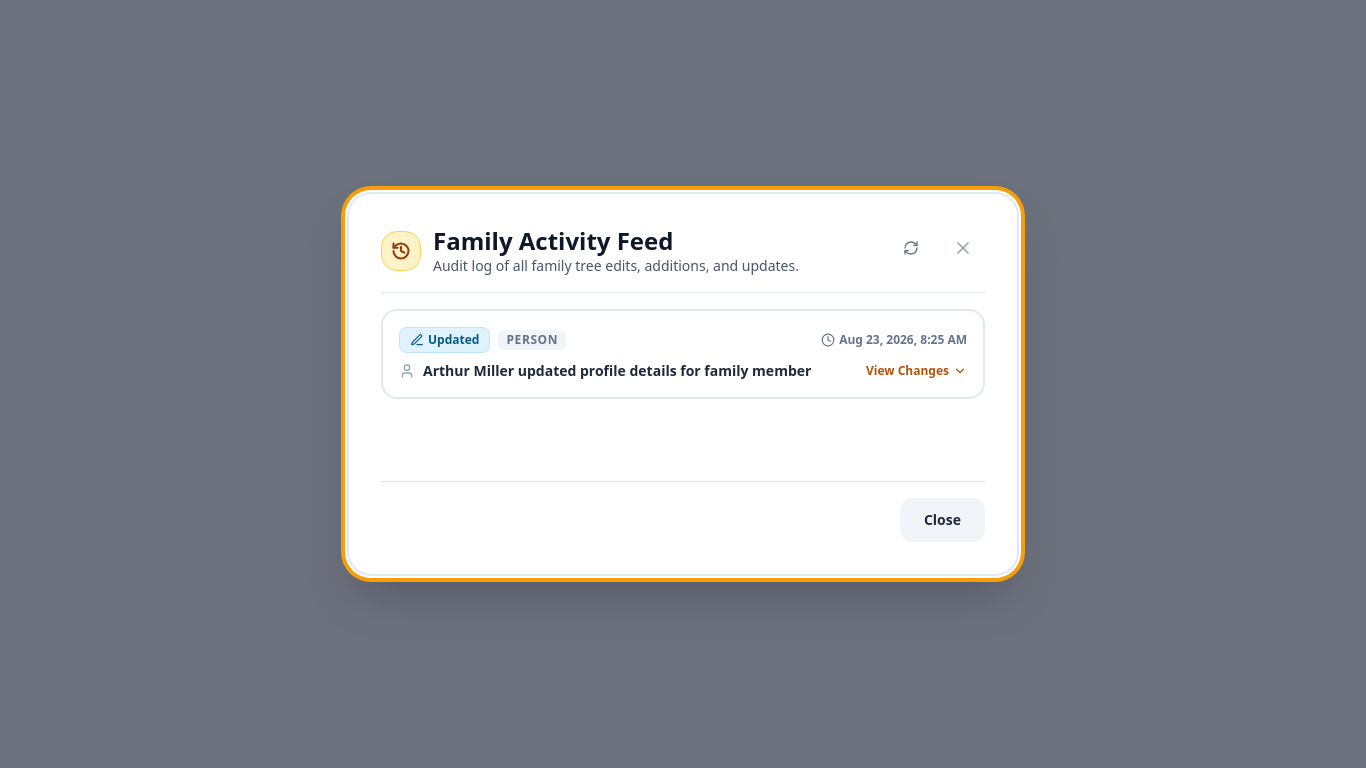
Scenario: ActivityFeedModal › does not redact details for deceased individuals when isViewer is true
The image size is (1366, 768).
Expected: the text "View Changes" is shown, [866,363,949,379]
Click the button "View Changes": coordinates (916, 371) [866,363,967,379]
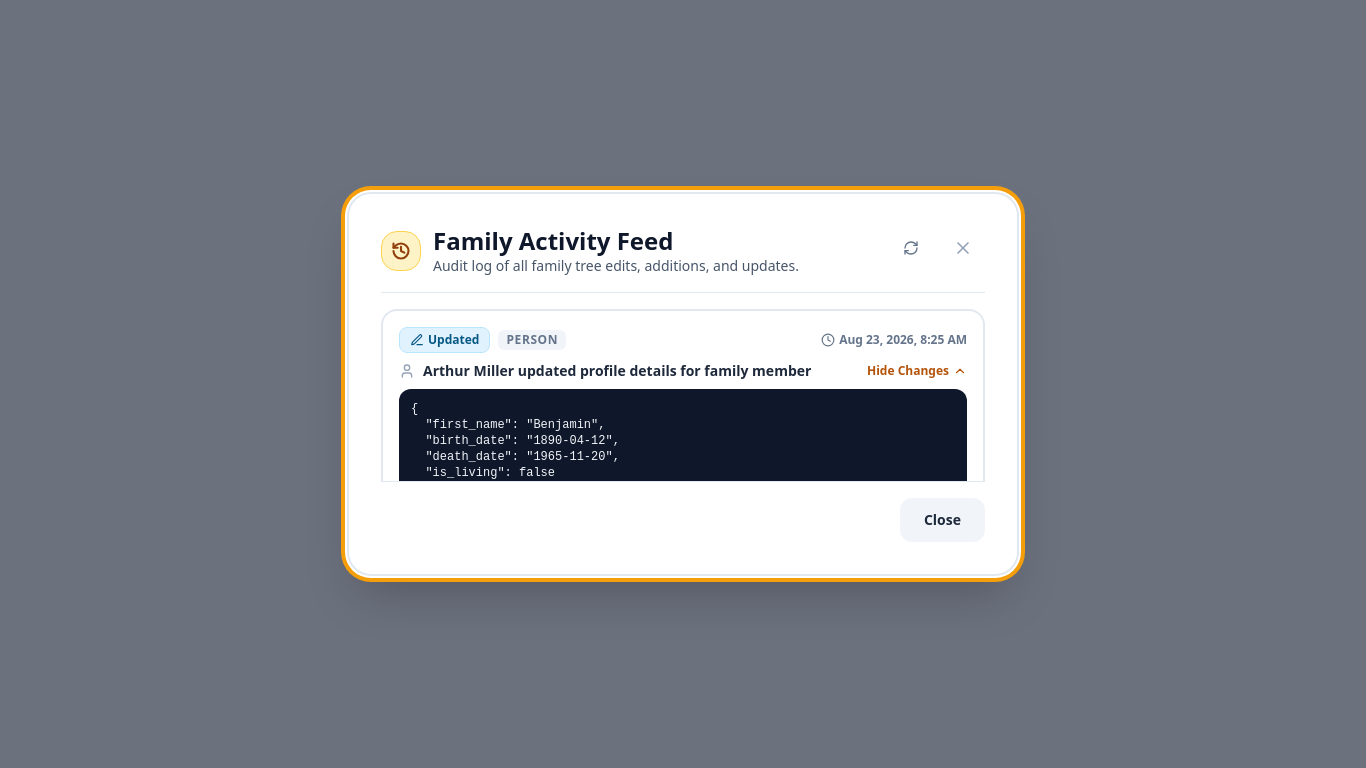
Result: the text "1965-11-20" is shown at [411,402,620,481]
